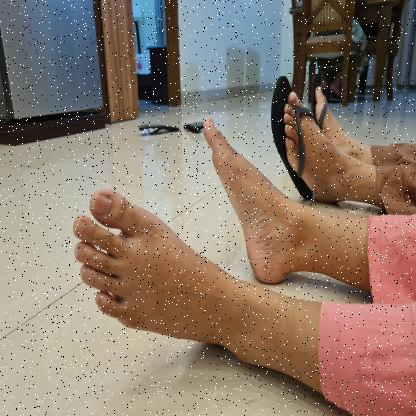leg: (67, 183, 318, 392), (198, 108, 370, 292), (266, 71, 376, 207), (308, 67, 374, 164)
